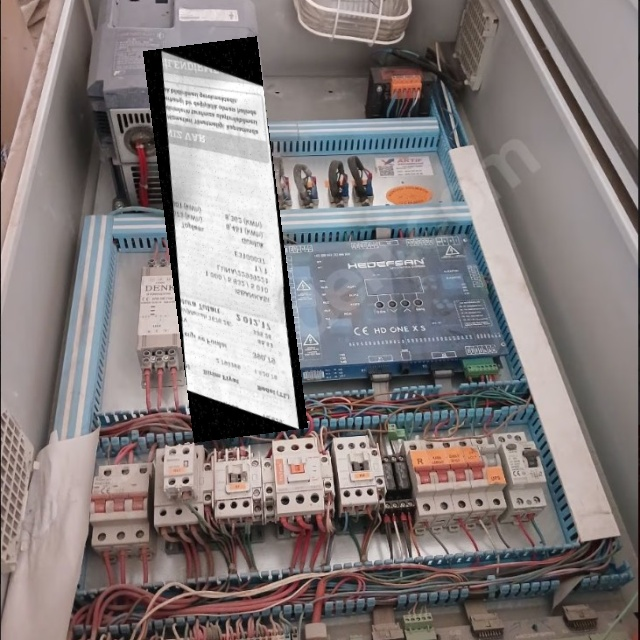electricity-bill: (142, 35, 307, 442)
